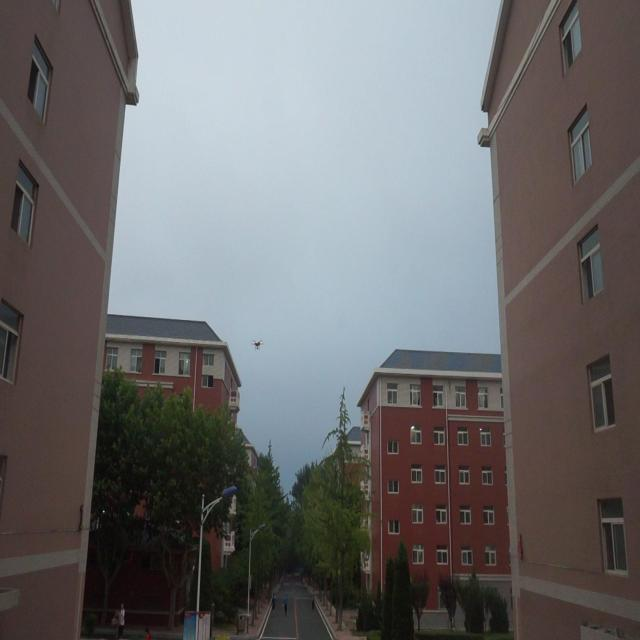drone: (249, 335, 267, 354)
